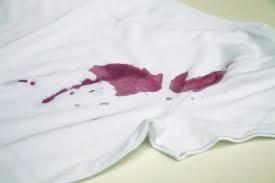oil: (89, 61, 163, 99), (171, 66, 232, 92), (39, 82, 98, 102), (11, 72, 34, 85), (93, 99, 110, 110), (67, 97, 81, 109), (186, 94, 198, 107), (161, 95, 174, 103)
